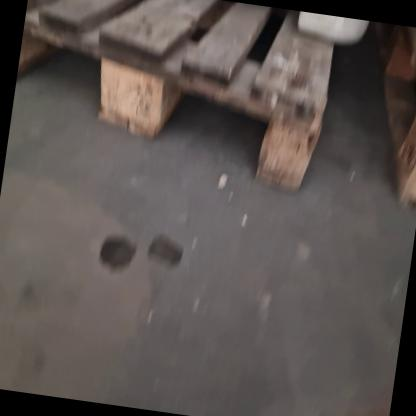BoxFace: (15, 0, 334, 199)
